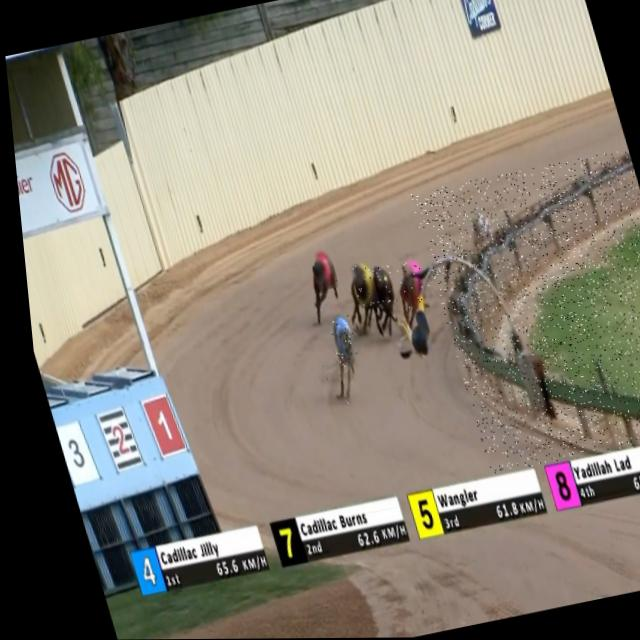dog_eight: (390, 260, 430, 310)
dog_five: (342, 256, 375, 309)
dog_four: (319, 313, 356, 372)
dog_one: (308, 249, 335, 291)
dog_seven: (366, 265, 393, 307)
dog_two: (466, 208, 493, 242)
rail: (440, 150, 640, 422)
